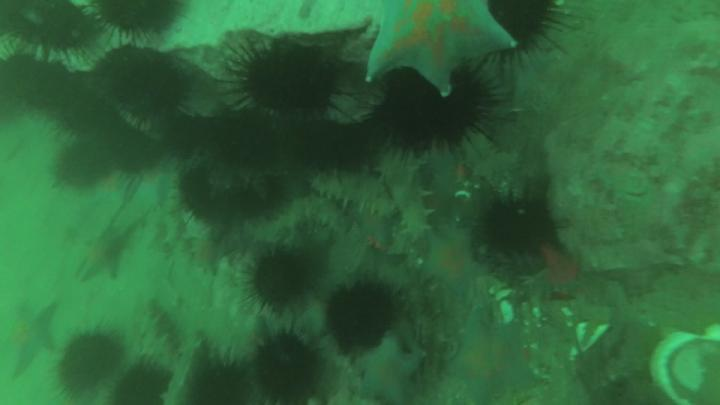echinus: (383, 76, 488, 154), (242, 41, 339, 113), (106, 54, 189, 116), (6, 3, 99, 52), (330, 282, 394, 350), (257, 337, 317, 405), (60, 334, 122, 397), (211, 110, 282, 162), (297, 121, 369, 171), (483, 201, 549, 255), (251, 252, 311, 310), (102, 1, 182, 34), (25, 62, 77, 112), (56, 144, 111, 191), (157, 116, 219, 157), (494, 1, 552, 44), (189, 365, 248, 405), (63, 96, 119, 137), (110, 130, 163, 173), (113, 365, 169, 402), (179, 175, 224, 221)
holothurian: (382, 155, 437, 242), (313, 175, 397, 218), (139, 314, 177, 373)
starfish: (369, 1, 519, 95), (446, 314, 536, 404), (360, 338, 421, 403), (8, 300, 57, 380), (426, 232, 487, 296), (78, 228, 132, 280), (190, 230, 230, 271)
